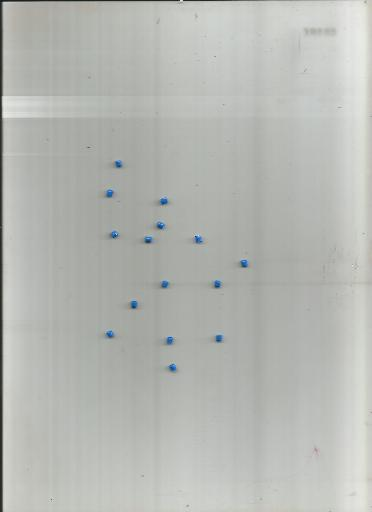Pellet: (193, 235, 204, 244), (168, 362, 177, 372), (110, 230, 119, 239), (106, 330, 115, 339), (165, 335, 174, 344), (240, 258, 248, 268), (214, 279, 222, 289), (130, 299, 138, 309), (114, 159, 122, 168), (156, 221, 164, 230), (161, 280, 169, 289), (144, 235, 152, 244), (160, 197, 168, 205), (106, 189, 114, 197), (215, 334, 222, 342)
